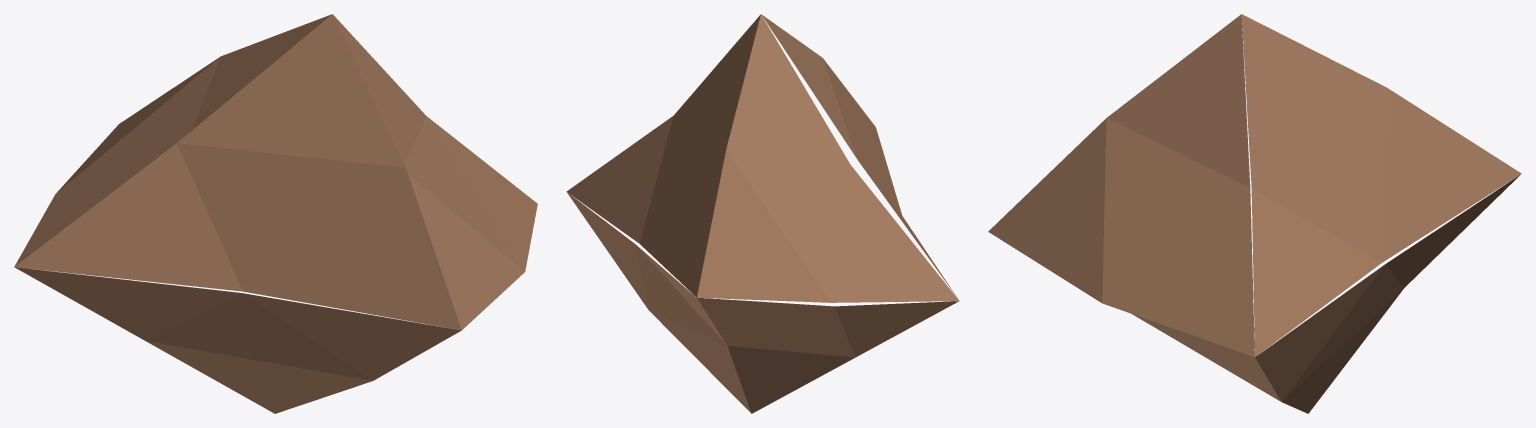
File: rock.gltf
3 views of the same model, side by side, from view 1: azimuth 30°, elevation 25°; view 2: azimuth 150°, elevation 25°; view 3: azimuth 270°, elevation 25° (orthographic). The views are drawn at different scales.
Visible parts, largest first — view 1: rock; view 2: rock; view 3: rock.
Part boxes in pixels (x1,y1,x2,y2): rock: [14, 14, 537, 413]; rock: [566, 14, 959, 413]; rock: [988, 14, 1521, 413].
Size of the model in its own units: 2.05 by 1.7 by 2.
